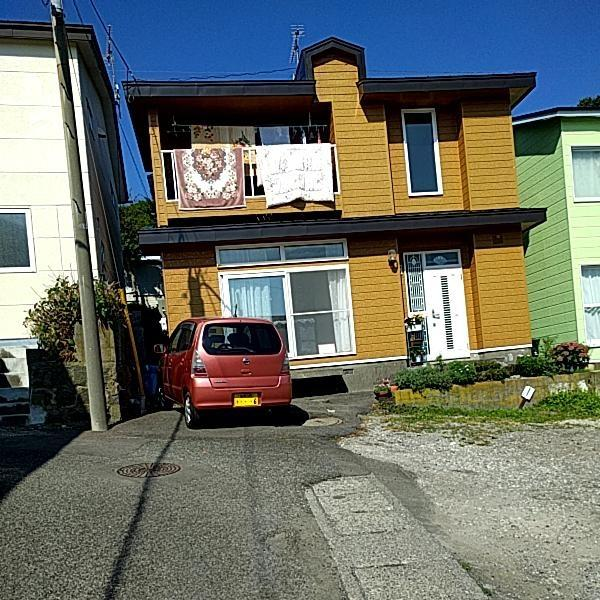pothole: (333, 407, 430, 467)
